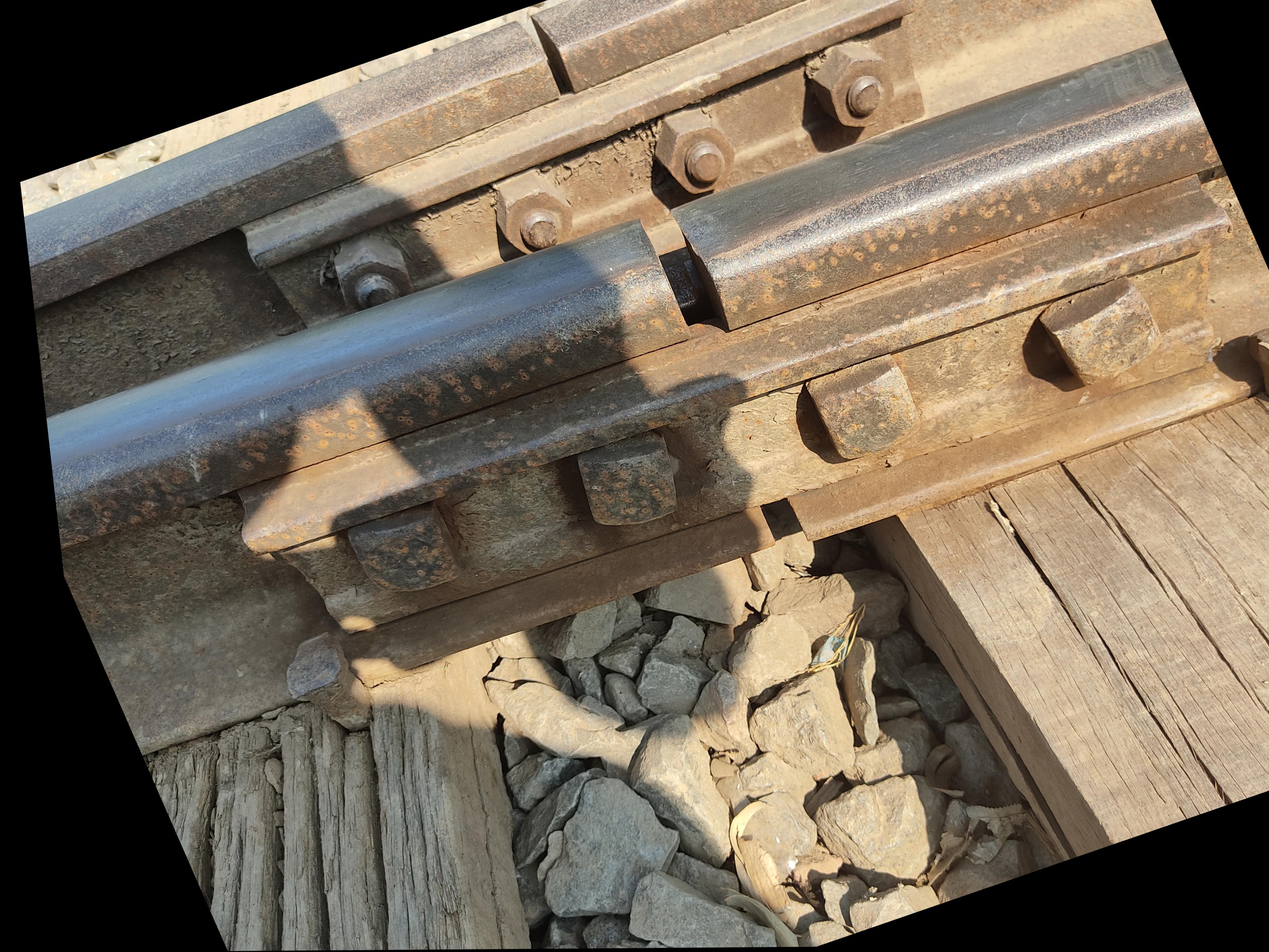person: (423, 338, 757, 653), (372, 202, 527, 338)
